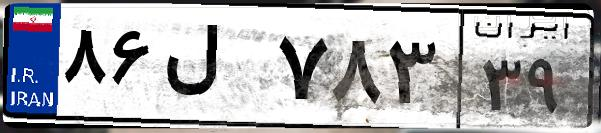3: (385, 28, 445, 110), (475, 38, 525, 113)
6: (110, 28, 158, 98)
7: (270, 28, 330, 110)
8: (330, 28, 385, 110), (57, 26, 110, 100)
9: (525, 38, 570, 115)
ل: (158, 20, 270, 120)
